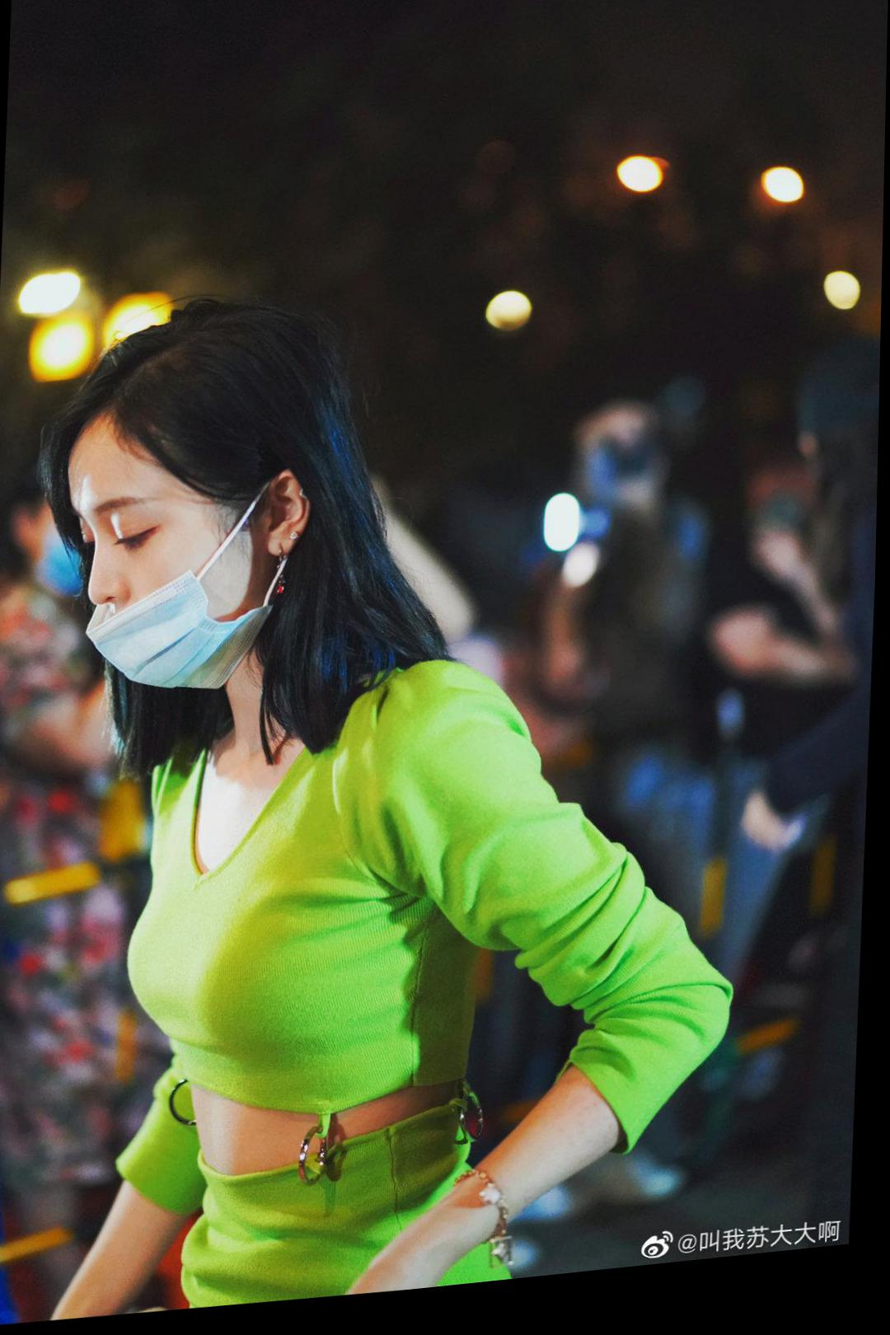WRONG: (67, 453, 256, 712)
